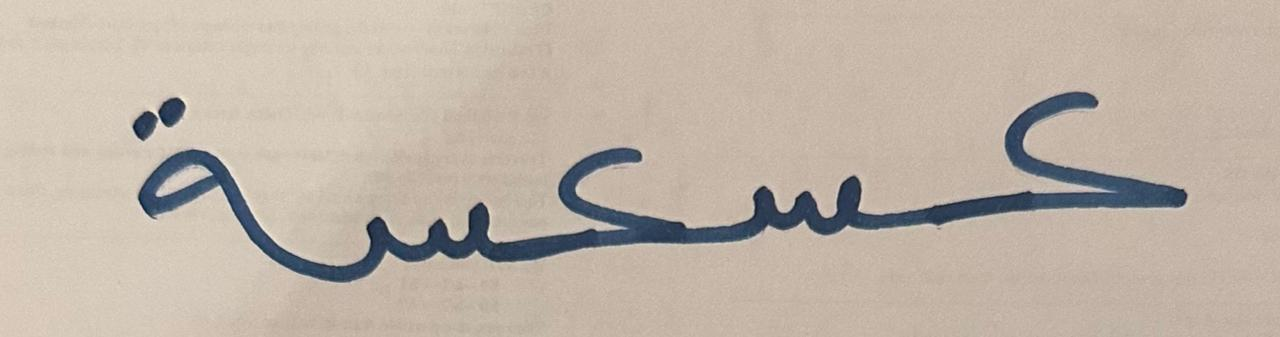ain: (935, 19, 1215, 280), (517, 46, 700, 304)
sheen: (704, 53, 932, 294), (319, 100, 512, 300)
thal: (88, 59, 316, 319)
